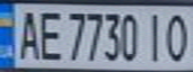0: (118, 9, 142, 62)
3: (103, 9, 124, 62)
7: (84, 9, 106, 62), (63, 8, 84, 62)
A: (12, 6, 42, 61)
E: (33, 7, 63, 61)
I: (142, 9, 169, 63)
O: (163, 9, 193, 63)
